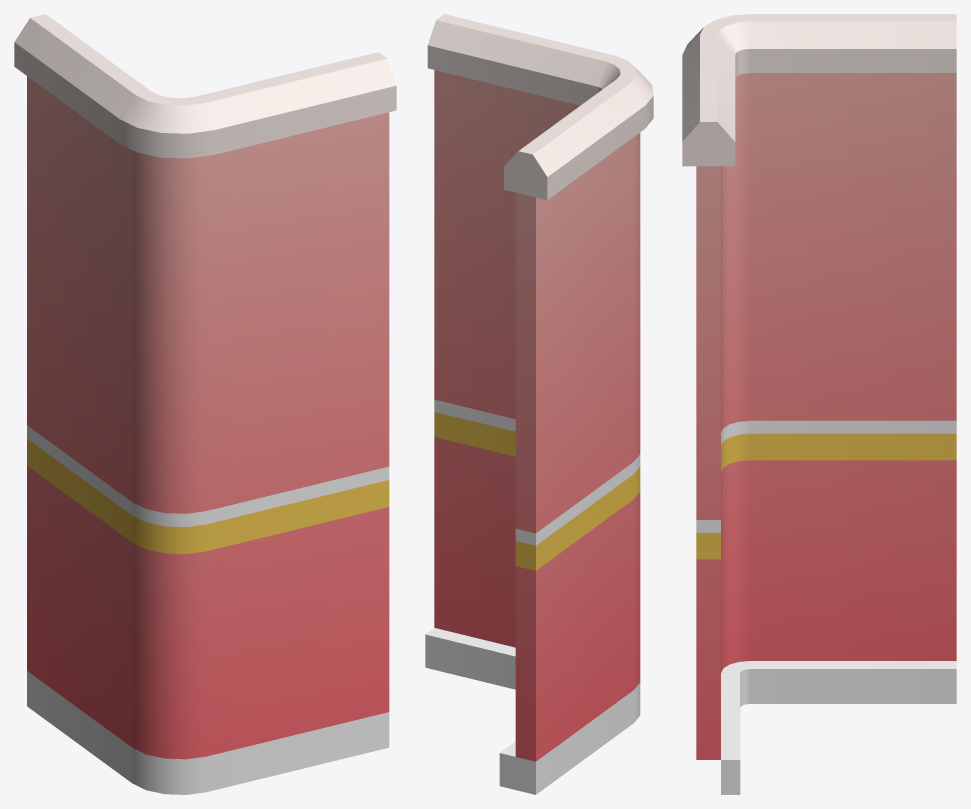
The model's file is 4Wall_Corner.fbx.
3 views of the same model, side by side, from view 1: azimuth 30°, elevation 25°; view 2: azimuth 150°, elevation 25°; view 3: azimuth 270°, elevation 25° (orthographic). The views are drawn at different scales.
Visible parts, largest first — view 1: 4Wall_Corner; view 2: 4Wall_Corner; view 3: 4Wall_Corner.
Boxes of the visible parts, bbox=[...] form: 4Wall_Corner: bbox=[14, 14, 396, 794]; 4Wall_Corner: bbox=[425, 14, 653, 794]; 4Wall_Corner: bbox=[682, 14, 956, 794].
Bounding box in the file's own units: 133 × 360 × 133.
